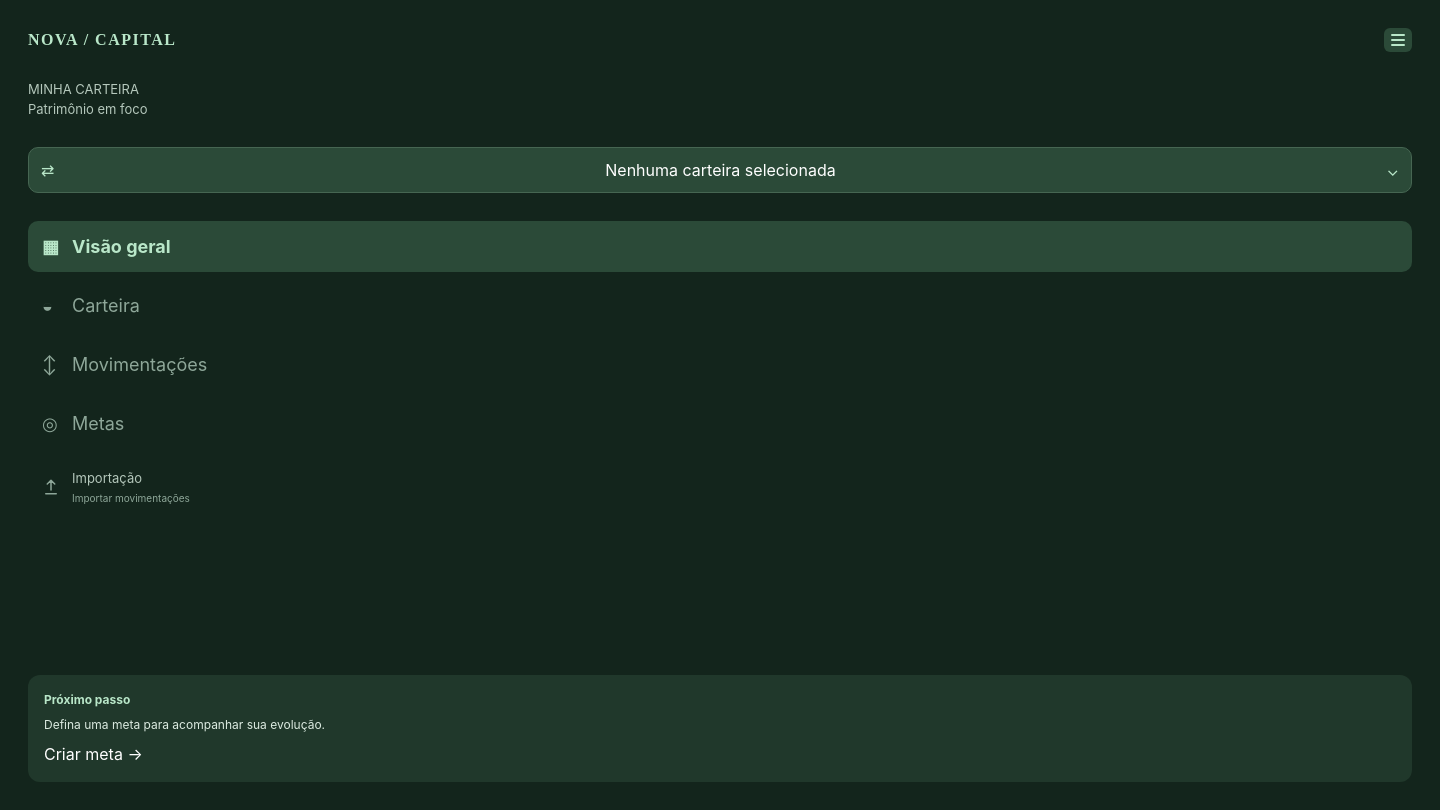
Test: Sidebar — carteiras controladas pelo App › mostra lista vazia e mantém criação acessível
Click the button "⇄ Nenhuma carteira selecionada ⌄": (720, 170) top-left (28, 147), bottom-right (1412, 193)
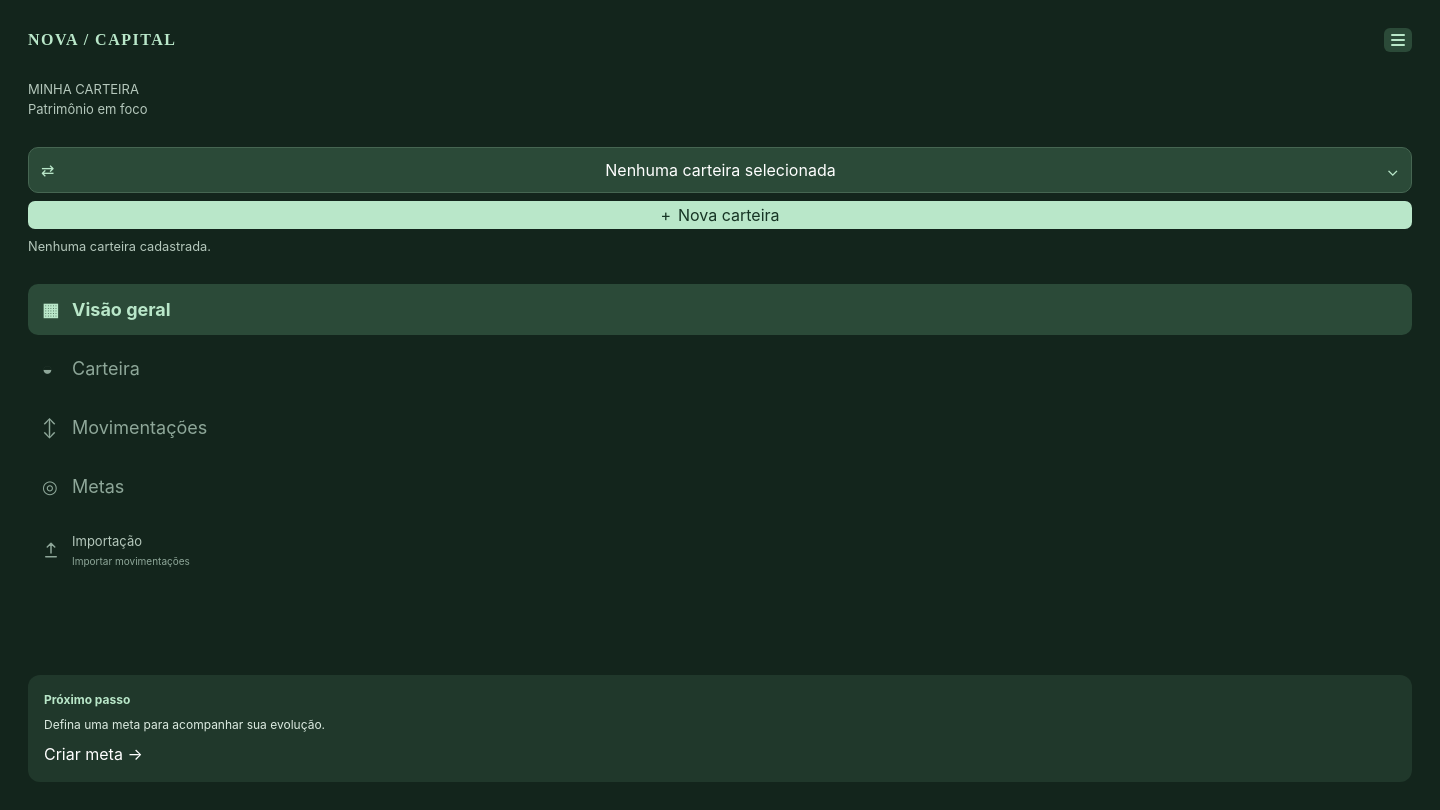
expect the text "Nenhuma carteira cadastrada." is shown: met, box top-left (28, 239), bottom-right (211, 254)
expect the button "+ Nova carteira" is shown: met, box top-left (28, 201), bottom-right (1412, 229)
